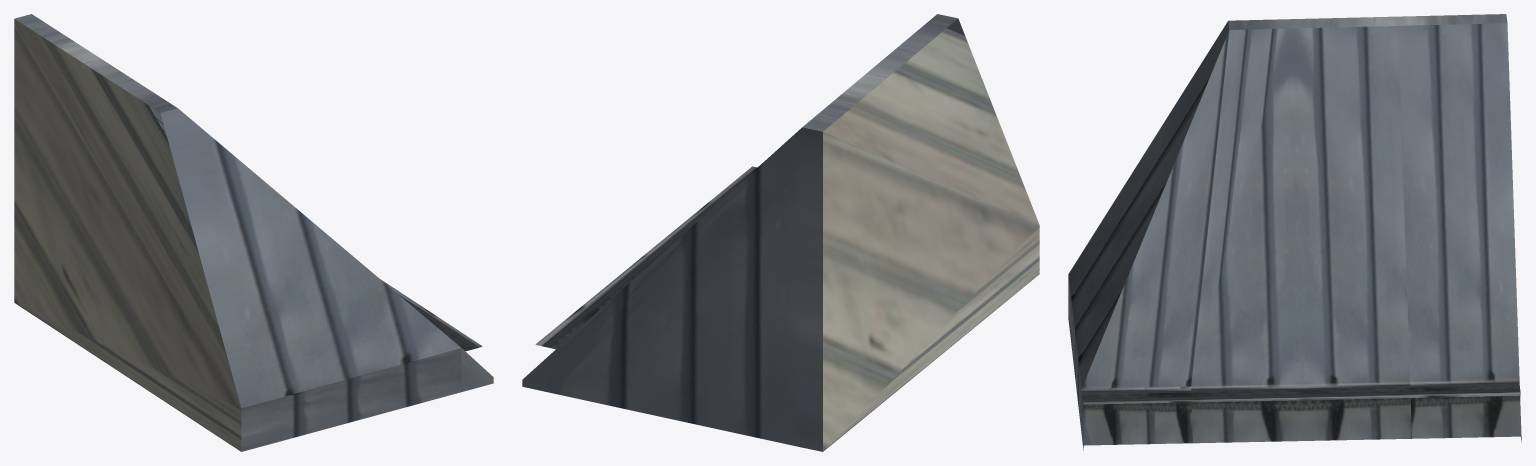
File: yk_tosicoolkattoramppi2.fbx
3 views of the same model, side by side, from view 1: azimuth 30°, elevation 25°; view 2: azimuth 150°, elevation 25°; view 3: azimuth 270°, elevation 25° (orthographic). The views are drawn at different scales.
Visible parts, largest first — view 1: kaunis_kattoramppi.001; view 2: kaunis_kattoramppi.001; view 3: kaunis_kattoramppi.001.
Boxes of the visible parts, bbox=[...] form: kaunis_kattoramppi.001: bbox=[14, 14, 493, 451]; kaunis_kattoramppi.001: bbox=[522, 14, 1039, 451]; kaunis_kattoramppi.001: bbox=[1068, 14, 1521, 450].
Bounding box in the file's own units: 384 × 377 × 521.
